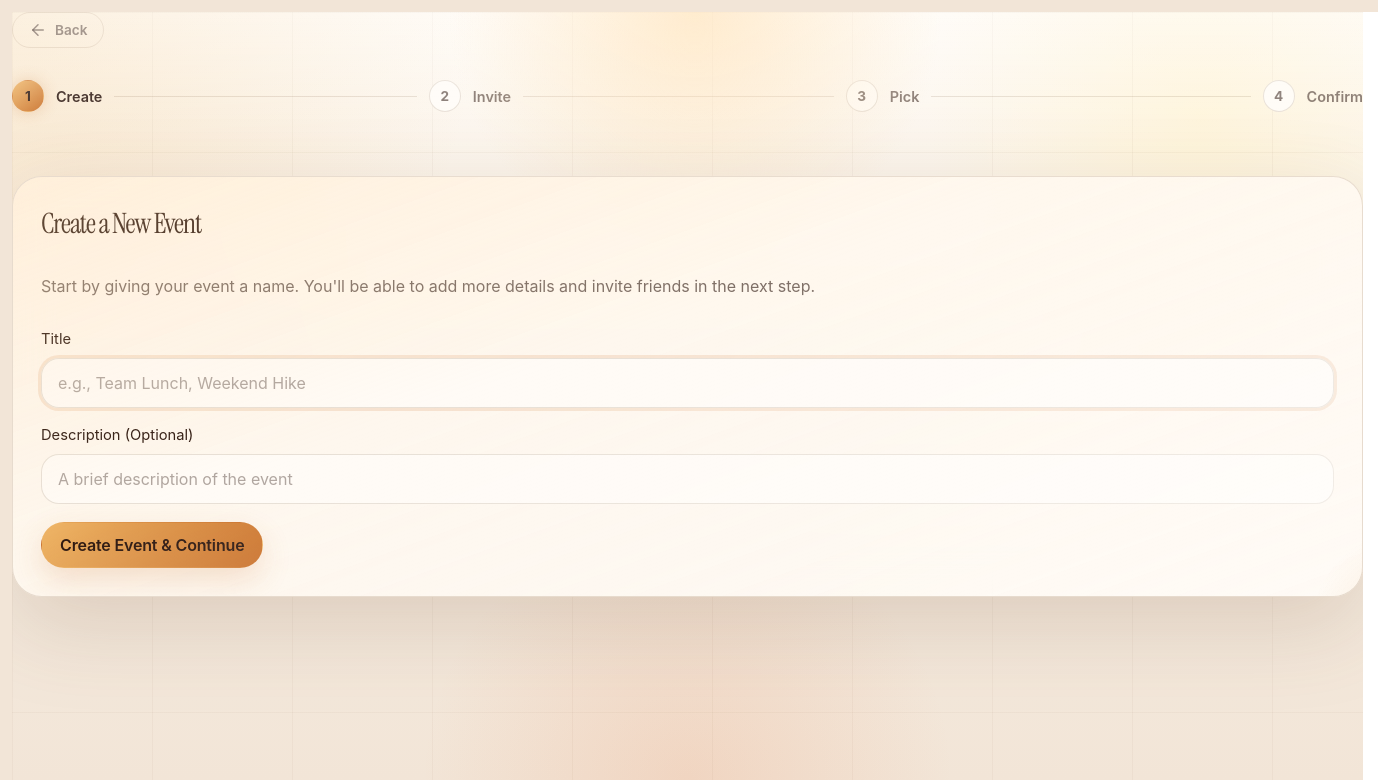
Test case: EventCreationForm › shows validation errors when submitting empty fields
The image size is (1378, 780).
Click the button "Create Event & Continue" at (152, 545), box [41,522,264,568]
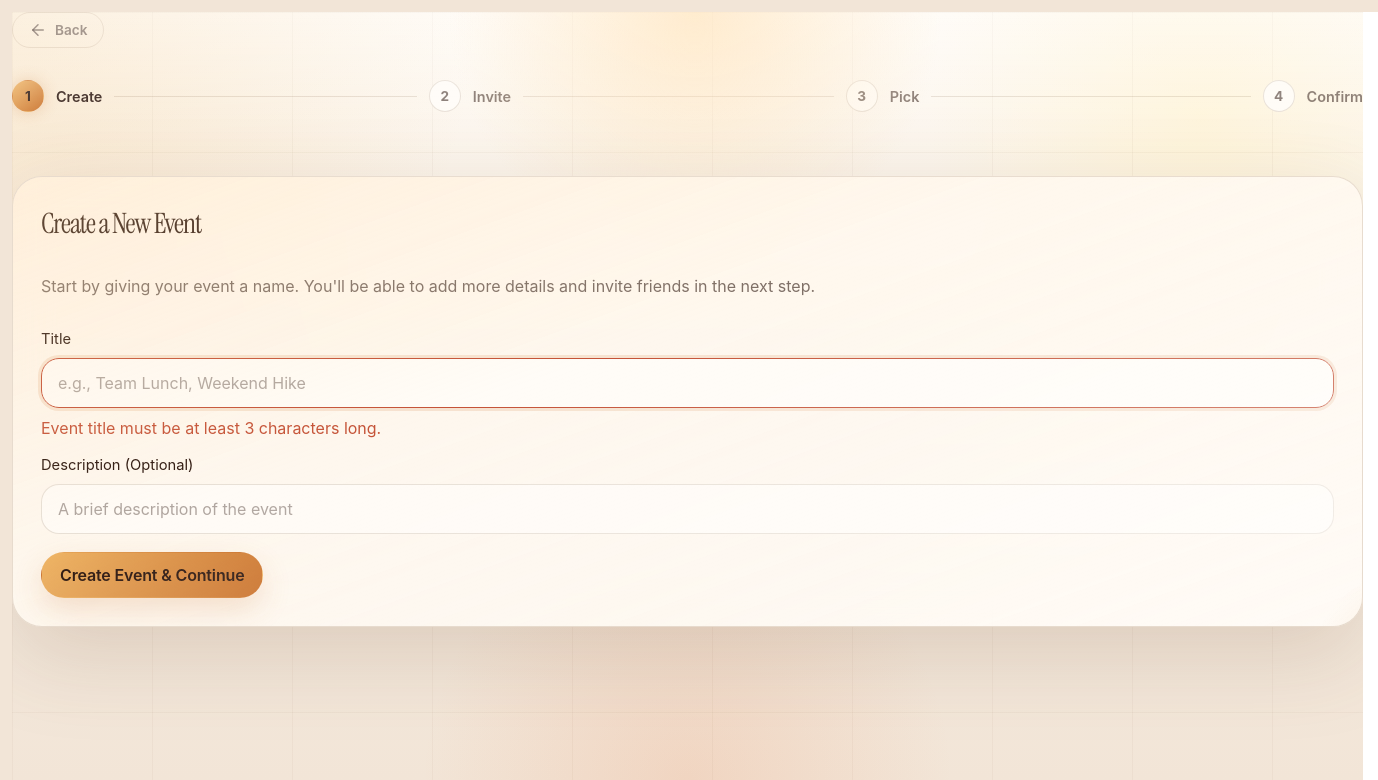
Expected: the text "Event title must be at least 3 characters long." is shown, [41,418,381,438]
